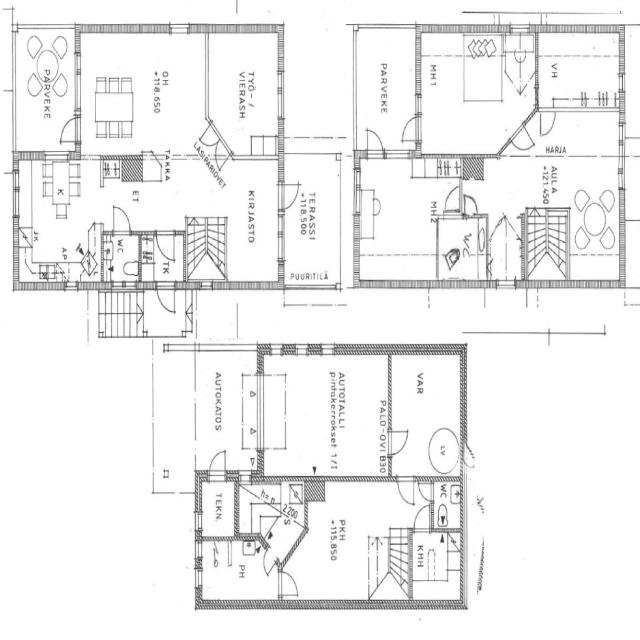door: (155, 280, 177, 316), (110, 203, 133, 237), (58, 113, 80, 148), (442, 183, 462, 219), (155, 229, 176, 263), (387, 426, 410, 456), (208, 447, 228, 481), (537, 105, 557, 139), (395, 474, 416, 506), (365, 126, 385, 159), (399, 114, 421, 144), (278, 569, 300, 598), (279, 181, 300, 211), (412, 504, 431, 534), (366, 193, 385, 218), (462, 193, 480, 219), (417, 479, 434, 504)
window: (247, 370, 264, 458), (10, 165, 22, 226), (72, 53, 83, 115), (275, 68, 287, 124), (276, 212, 288, 268), (578, 277, 617, 292), (352, 172, 363, 218), (494, 276, 519, 294), (42, 149, 72, 163), (168, 22, 191, 37), (509, 22, 532, 36), (412, 92, 423, 116), (197, 278, 215, 292), (193, 509, 203, 533), (64, 279, 79, 294), (320, 342, 336, 356)
zone: (80, 33, 207, 154), (267, 357, 390, 477), (418, 38, 538, 152), (208, 32, 281, 158), (390, 355, 462, 478), (22, 172, 101, 283), (355, 26, 419, 156), (194, 349, 260, 475), (220, 157, 282, 284), (280, 153, 340, 284), (361, 160, 438, 256), (537, 32, 623, 110), (533, 108, 622, 171), (235, 482, 302, 547), (196, 538, 262, 602), (410, 530, 463, 599), (436, 215, 489, 283), (199, 478, 237, 539), (102, 232, 141, 291), (244, 372, 264, 455), (431, 478, 462, 530), (622, 141, 640, 223), (623, 220, 640, 288)
